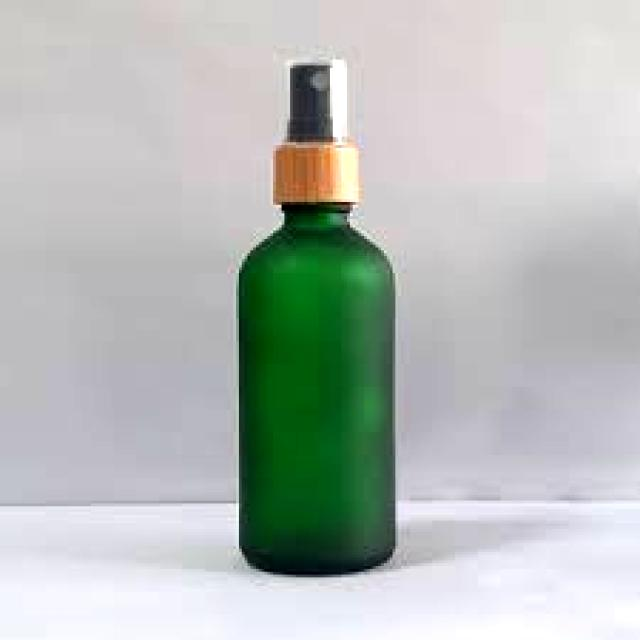Glass: (231, 133, 404, 580)
